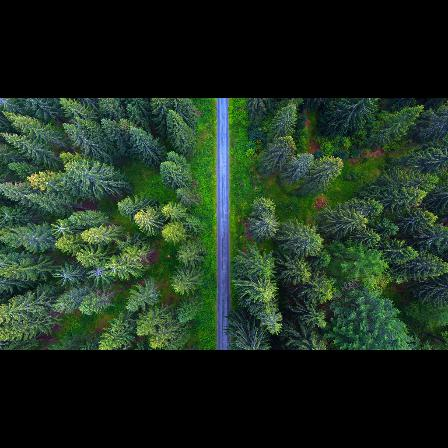Sick: (84, 259, 113, 287), (52, 261, 80, 289), (46, 214, 72, 240)
